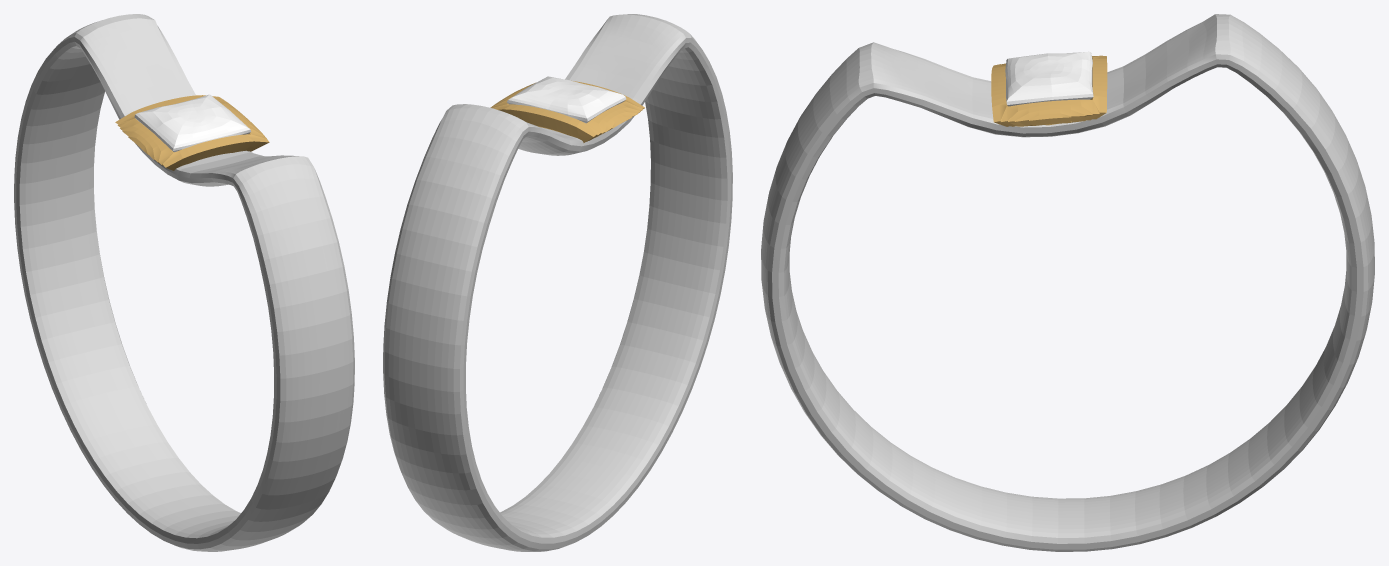
File: ringVariation1.glb
3 renders of one model, left to right at view 1: azimuth 30°, elevation 25°; view 2: azimuth 150°, elevation 25°; view 3: azimuth 270°, elevation 25°, orthographic. The views are drawn at different scales.
Parts seen in each view (by area): view 1: R7, R3, R6; view 2: R7, R3, R6; view 3: R7, R3, R6.
Boxes of the visible parts, left/top/right/bottom form: R7: left=14, top=14, right=354, bottom=551; R3: left=134, top=94, right=251, bottom=152; R6: left=115, top=95, right=269, bottom=170; R7: left=383, top=14, right=732, bottom=551; R3: left=507, top=76, right=626, bottom=123; R6: left=490, top=80, right=644, bottom=142; R7: left=761, top=14, right=1374, bottom=551; R3: left=1005, top=51, right=1093, bottom=106; R6: left=991, top=55, right=1107, bottom=126.
Size of the model in its own units: 0.1141 by 0.456 by 0.4941.
